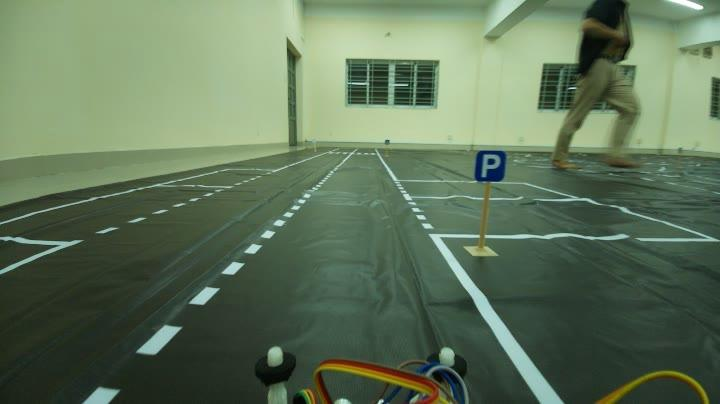parking: (470, 146, 509, 188)
